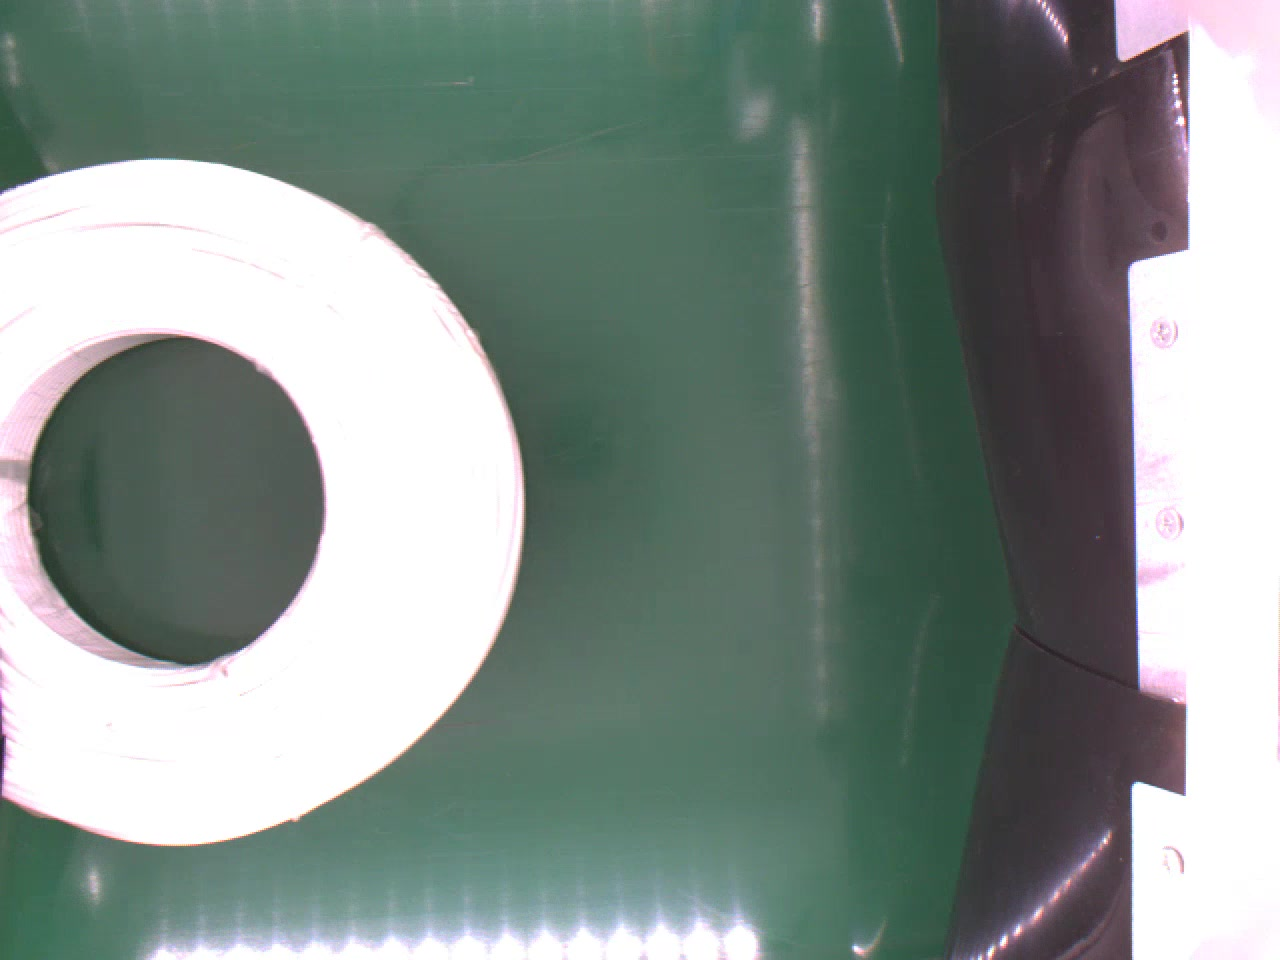white: (0, 157, 527, 854)
